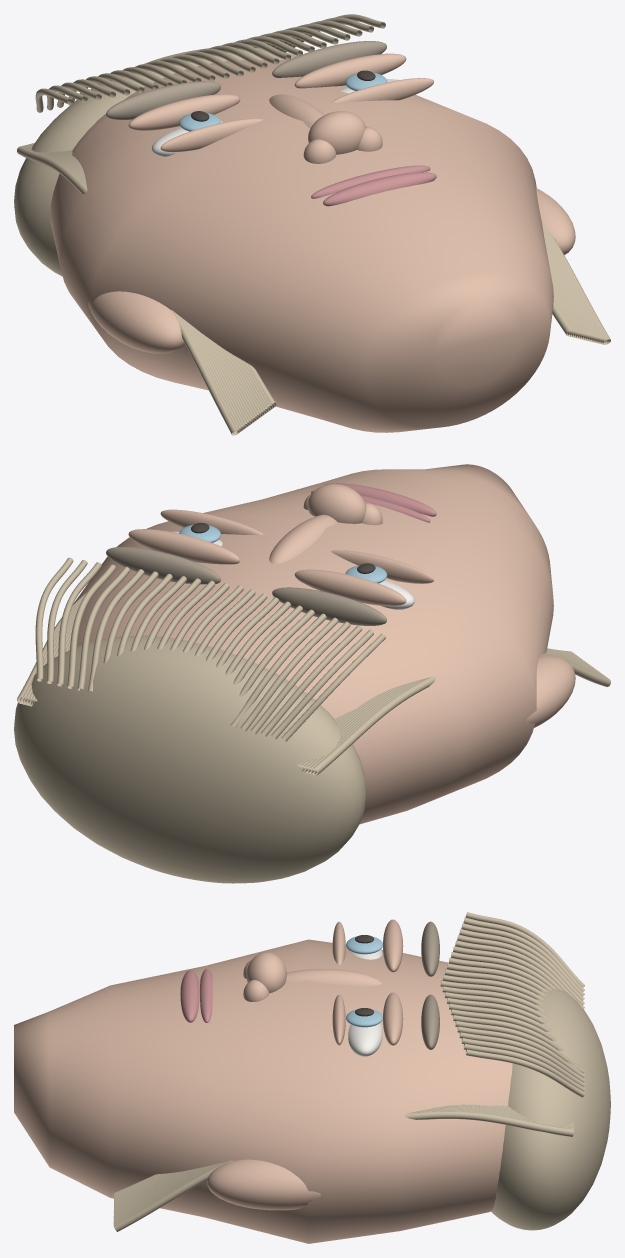
The model's file is laura-head-inspection.glb.
The picture shows the model from 3 angles, top to bottom: view 1: azimuth 30°, elevation 25°; view 2: azimuth 150°, elevation 25°; view 3: azimuth 270°, elevation 25°; orthographic projection. The views are drawn at different scales.
Parts seen in each view (by area): view 1: Laura face - oval cheeks tapered jaw, Ash blonde scalp, Ear Left, Eyebrow Left, Upper eyelid Left, Eyebrow Right, Upper eyelid Right, Nose soft rounded tip, Face framing hair -1 18, Lower lip, Lower eyelid Left, Lower eyelid Right (+4 smaller); view 2: Laura face - oval cheeks tapered jaw, Ash blonde scalp, Eyebrow Left, Eyebrow Right, Upper eyelid Left, Upper eyelid Right, Ear Left, Nose soft rounded tip, Face framing hair -1 18, Nose bridge, Lower eyelid Left, Lower eyelid Right (+26 smaller); view 3: Laura face - oval cheeks tapered jaw, Ash blonde scalp, Ear Right, Face framing hair 1 18, Nose bridge, Nose soft rounded tip, Right sclera, Upper eyelid Right, Upper eyelid Left, Eyebrow Right, Lower lip, Eyebrow Left (+31 smaller).
Part boxes in pixels (x1,y1,x2,y2): Laura face - oval cheeks tapered jaw: (50, 60, 553, 432); Ash blonde scalp: (14, 47, 296, 276); Ear Left: (88, 291, 184, 353); Eyebrow Left: (106, 81, 220, 119); Upper eyelid Left: (128, 94, 240, 130); Eyebrow Right: (272, 41, 386, 77); Upper eyelid Right: (294, 53, 406, 88); Nose soft rounded tip: (308, 111, 366, 154); Face framing hair -1 18: (17, 146, 239, 435); Lower lip: (323, 172, 436, 206); Lower eyelid Left: (160, 118, 262, 152); Lower eyelid Right: (331, 78, 433, 102); Laura face - oval cheeks tapered jaw: (74, 464, 553, 824); Ash blonde scalp: (14, 635, 366, 883); Eyebrow Left: (272, 587, 386, 625); Eyebrow Right: (106, 547, 220, 584); Upper eyelid Left: (294, 569, 406, 605); Upper eyelid Right: (128, 529, 240, 564); Ear Left: (526, 655, 575, 727); Nose soft rounded tip: (308, 484, 366, 523); Face framing hair -1 18: (310, 654, 610, 775); Nose bridge: (269, 514, 337, 563); Lower eyelid Left: (331, 550, 433, 583); Lower eyelid Right: (160, 509, 262, 534); Laura face - oval cheeks tapered jaw: (14, 939, 512, 1243); Ash blonde scalp: (491, 986, 610, 1230); Ear Right: (207, 1159, 320, 1210); Face framing hair 1 18: (113, 1111, 573, 1231); Nose bridge: (285, 969, 382, 986); Nose soft rounded tip: (246, 952, 286, 993); Right sclera: (348, 1023, 382, 1056); Upper eyelid Right: (383, 992, 403, 1045); Upper eyelid Left: (383, 919, 403, 972); Eyebrow Right: (421, 994, 439, 1049); Lower lip: (180, 970, 199, 1022); Eyebrow Left: (421, 921, 439, 976).
Size of the model in its own units: 1.85 by 1.1 by 2.35.
